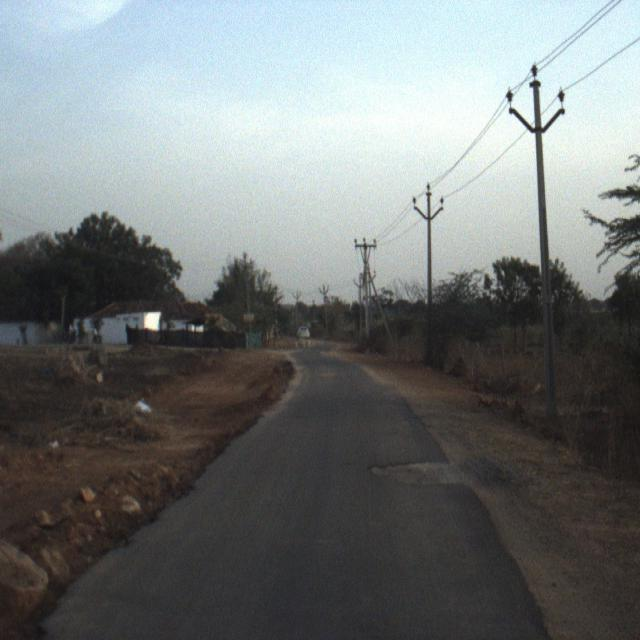Pothole: (357, 432, 456, 533), (457, 587, 564, 640)
